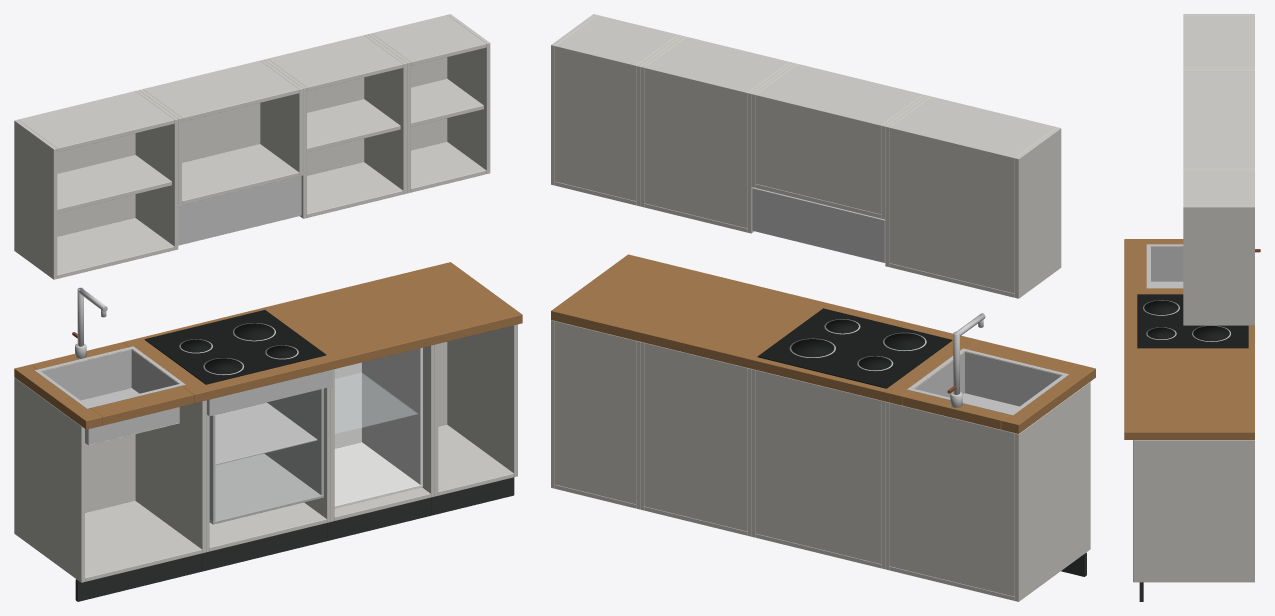
The model's file is kitchen_run_appliances_compact_body.glb.
3 views of the same model, side by side, from view 1: azimuth 30°, elevation 25°; view 2: azimuth 150°, elevation 25°; view 3: azimuth 270°, elevation 25° (orthographic). The views are drawn at different scales.
Parts seen in each view (by area): view 1: kitchen_run_appliances_compact_body; view 2: kitchen_run_appliances_compact_body; view 3: kitchen_run_appliances_compact_body.
Part boxes in pixels (bbox=[...]): kitchen_run_appliances_compact_body: bbox=[14, 14, 522, 601]; kitchen_run_appliances_compact_body: bbox=[551, 14, 1095, 601]; kitchen_run_appliances_compact_body: bbox=[1124, 14, 1260, 601].
Size of the model in its own units: 2.1 by 2 by 0.625.
